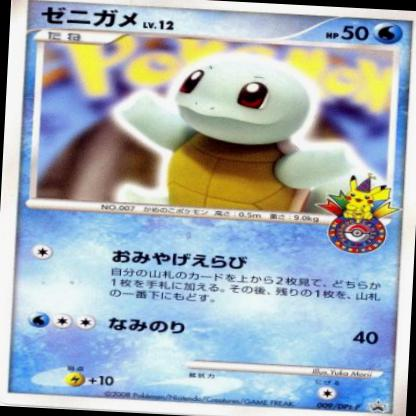Squirtle: (114, 35, 360, 216)
